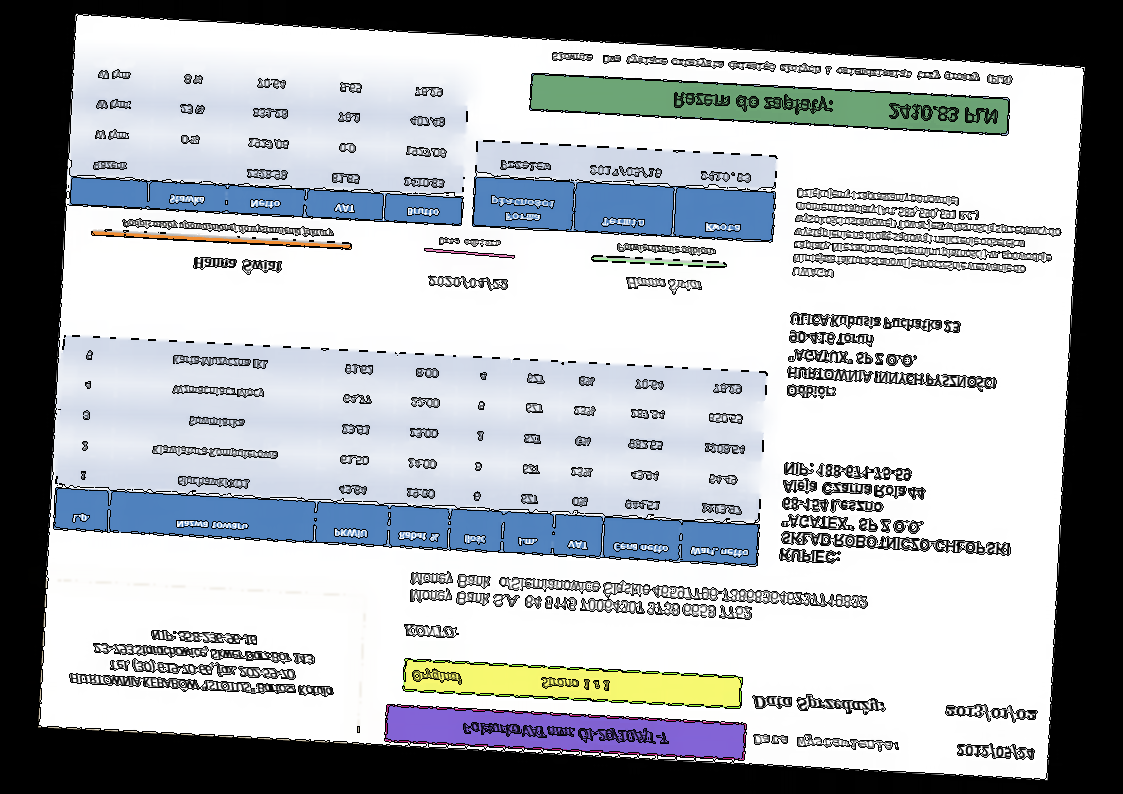Table: (52, 333, 770, 568), (66, 52, 473, 229), (471, 138, 777, 244)
TextBox: (789, 185, 1065, 294), (407, 568, 871, 632), (776, 459, 1016, 577), (783, 309, 1001, 412), (66, 622, 339, 701), (550, 47, 1014, 89), (670, 87, 1001, 131), (408, 665, 613, 696), (458, 719, 673, 748), (120, 216, 338, 242), (751, 688, 888, 719), (749, 730, 902, 755), (944, 700, 1042, 726), (189, 254, 285, 278), (424, 270, 512, 295), (953, 739, 1039, 764), (613, 240, 718, 259), (623, 274, 705, 297), (400, 621, 462, 644), (436, 235, 503, 251)
